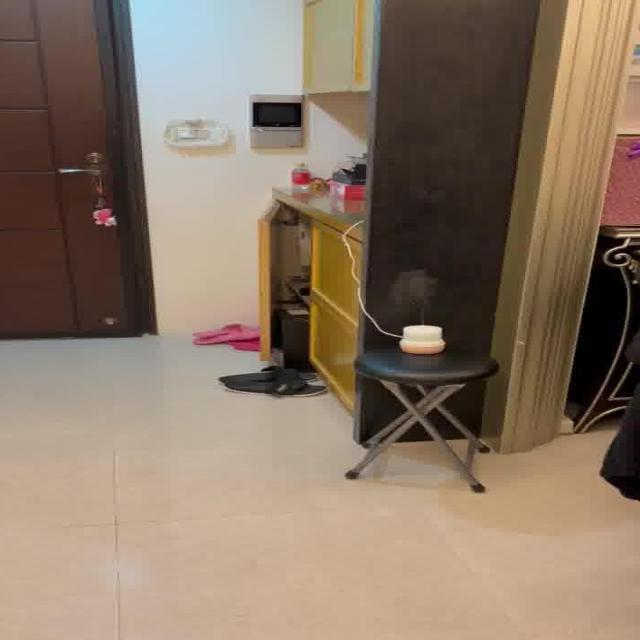fire: (381, 265, 444, 318)
